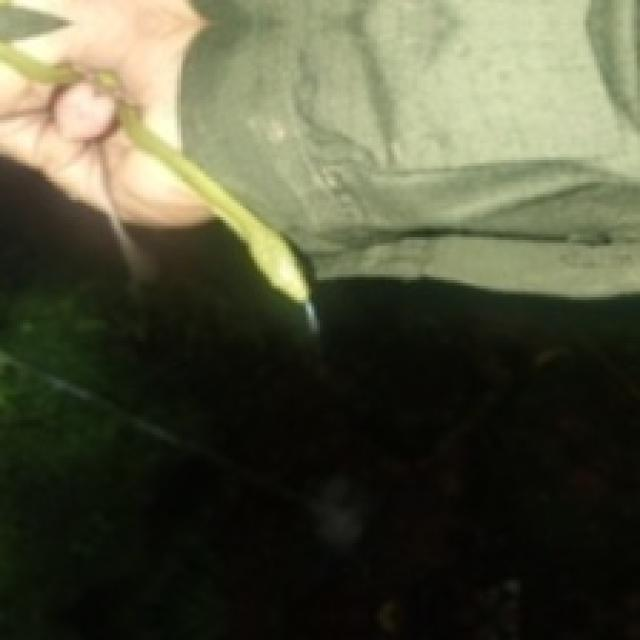red-tailed green ratsnake: (0, 2, 314, 321), (101, 149, 146, 278)
